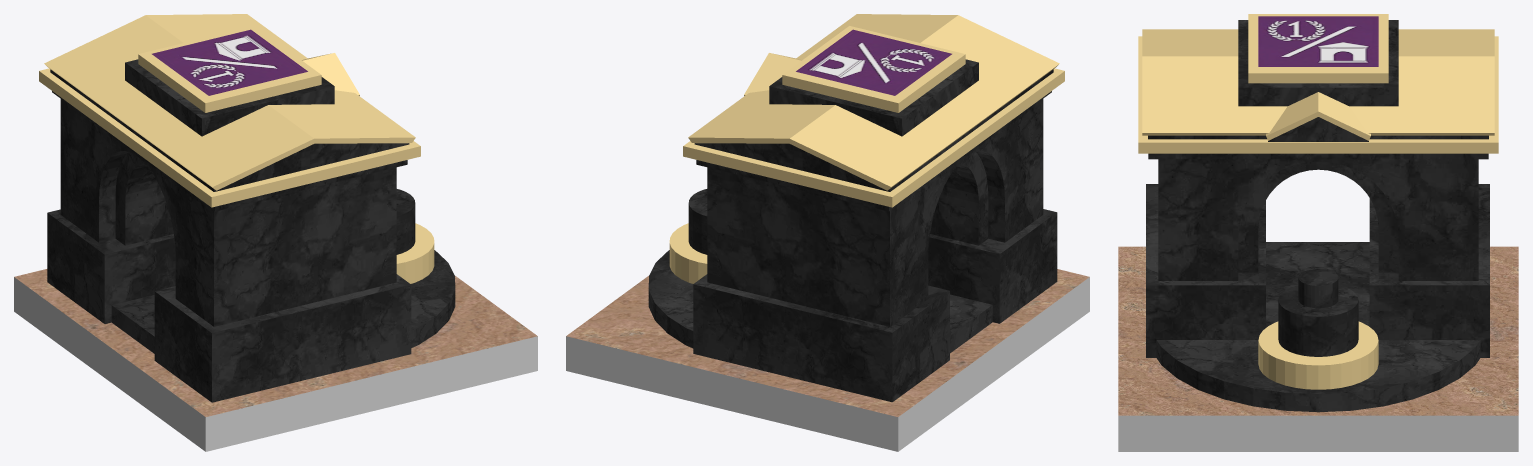
The model's file is buildingFuente.glb.
3 renders of one model, left to right at view 1: azimuth 30°, elevation 25°; view 2: azimuth 150°, elevation 25°; view 3: azimuth 270°, elevation 25°, orthographic. The views are drawn at different scales.
Parts seen in each view (by area): view 1: Fuente; view 2: Fuente; view 3: Fuente.
Boxes of the visible parts, x1,y1,x2,y2 form: Fuente: [14, 14, 537, 451]; Fuente: [566, 14, 1089, 451]; Fuente: [1118, 14, 1518, 451].
Size of the model in its own units: 2 by 1.67 by 2.
5 materials, 3 textured.
